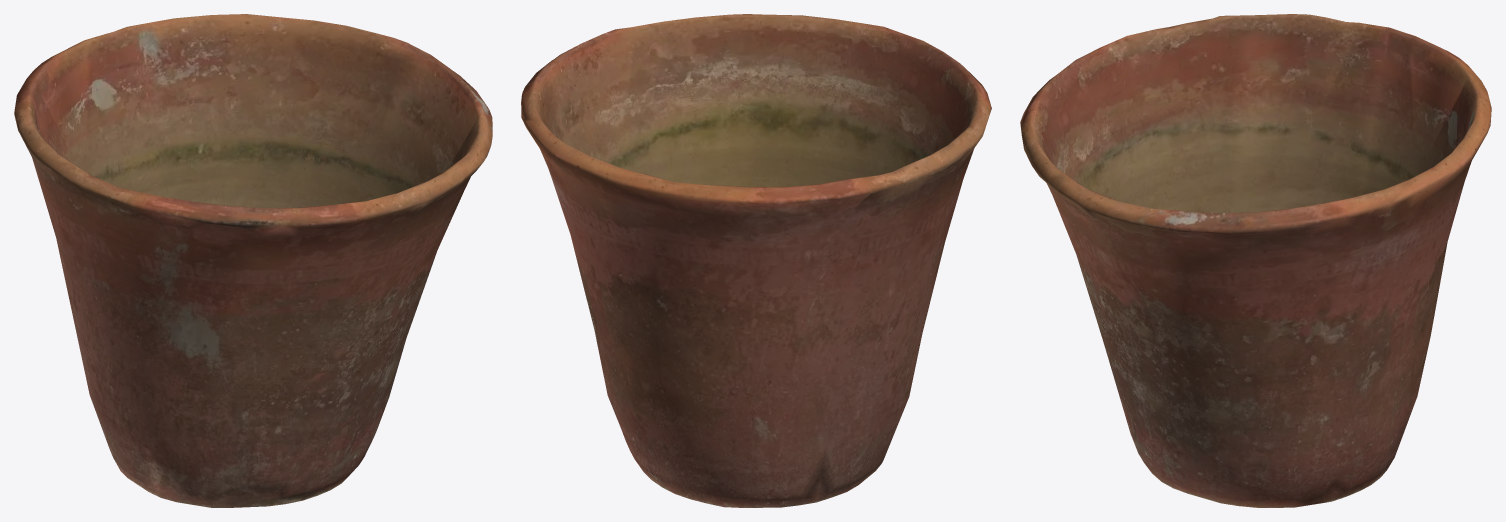
The model's file is planter_pot_clay.glb.
3 views of the same model, side by side, from view 1: azimuth 30°, elevation 25°; view 2: azimuth 150°, elevation 25°; view 3: azimuth 270°, elevation 25° (orthographic).
Visible parts, largest first — view 1: planter_pot_clay; view 2: planter_pot_clay; view 3: planter_pot_clay.
Part boxes in pixels (left/top/right/bottom): planter_pot_clay: left=14, top=14, right=492, bottom=507; planter_pot_clay: left=521, top=14, right=991, bottom=507; planter_pot_clay: left=1020, top=14, right=1491, bottom=507.
Bounding box in the file's own units: 0.2656 × 0.2218 × 0.2635.
1 material, 1 textured.
